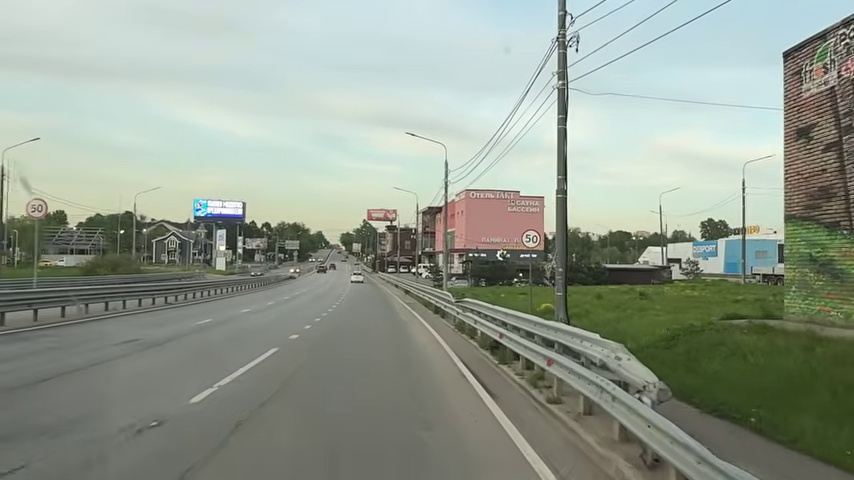apagada: (26, 135, 42, 147)
